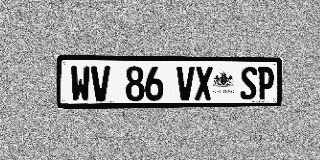6: (145, 66, 163, 101)
8: (126, 66, 144, 101)
P: (257, 67, 274, 100)
S: (240, 67, 257, 100)
V: (91, 66, 110, 102), (176, 66, 194, 101)
W: (70, 66, 90, 102)
X: (195, 66, 213, 100)
